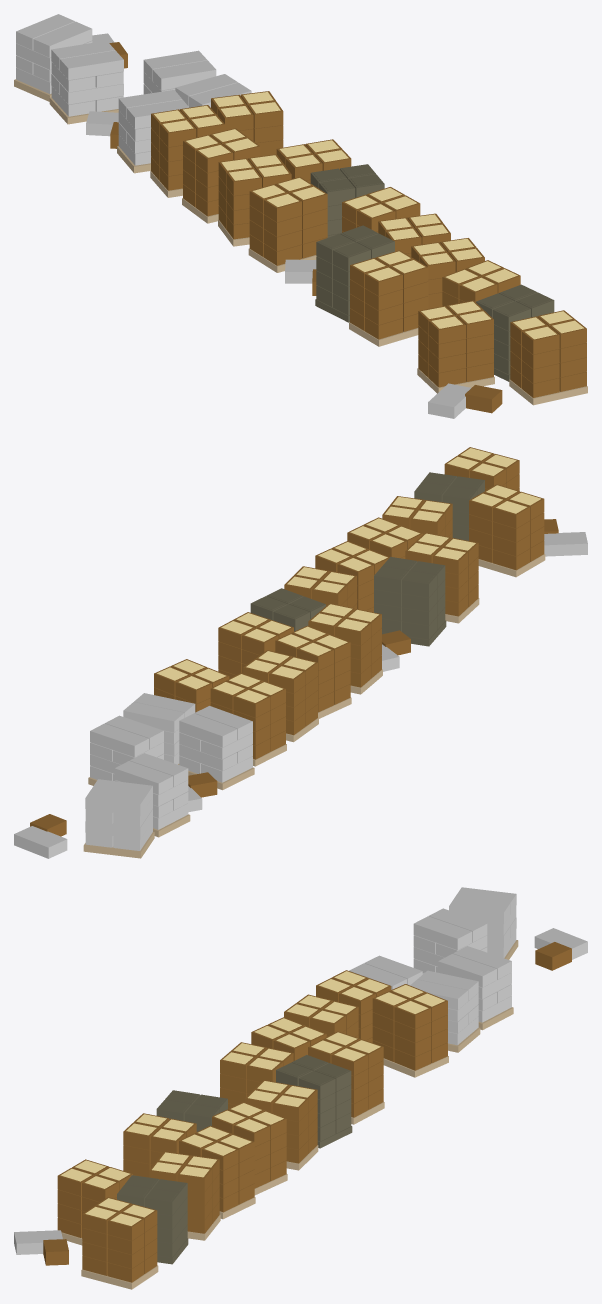
File: SM_CargaViveres_Danado_LOD0.fbx
3 views of the same model, one above another, from view 1: azimuth 30°, elevation 25°; view 2: azimuth 150°, elevation 25°; view 3: azimuth 330°, elevation 25° (orthographic). The views are drawn at different scales.
Visible parts, largest first — view 1: SM_carga_vagon_v18_LOD0; view 2: SM_carga_vagon_v18_LOD0; view 3: SM_carga_vagon_v18_LOD0.
Boxes of the visible parts, <box> form: SM_carga_vagon_v18_LOD0: <box>14,14,587,418</box>; SM_carga_vagon_v18_LOD0: <box>14,447,587,858</box>; SM_carga_vagon_v18_LOD0: <box>14,887,587,1289</box>.
Size of the model in its own units: 3.28 by 1.38 by 18.71.
